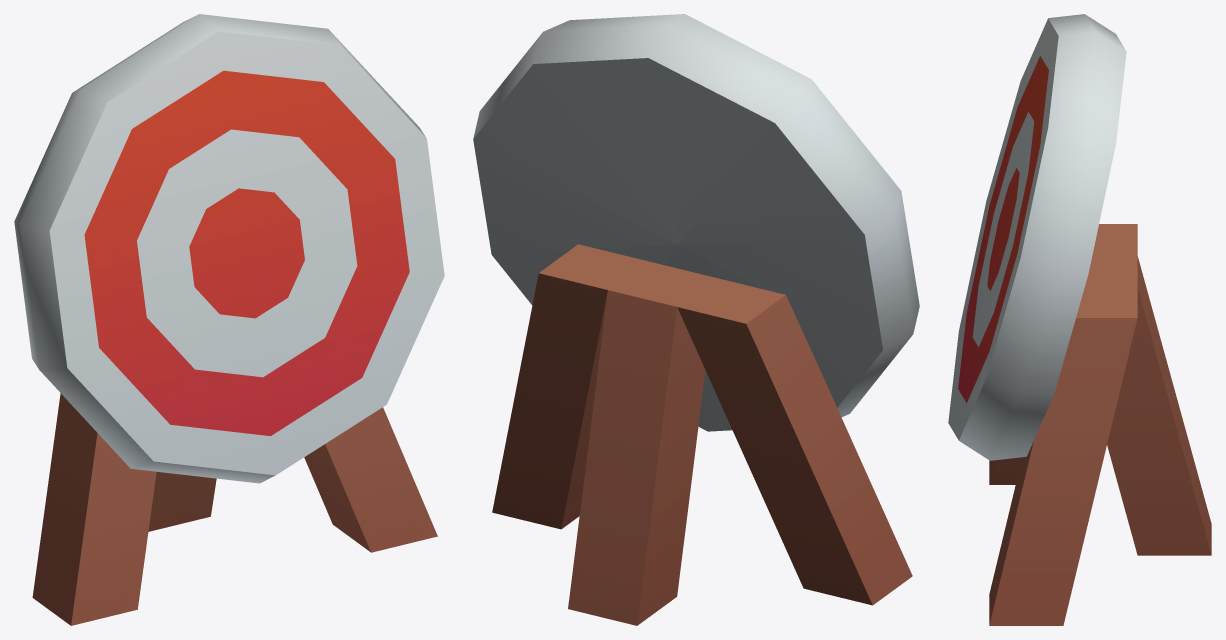
The model's file is kaykit-medieval-hexagon-pack-target.glb.
3 renders of one model, left to right at view 1: azimuth 30°, elevation 25°; view 2: azimuth 150°, elevation 25°; view 3: azimuth 270°, elevation 25°, orthographic. The views are drawn at different scales.
Parts seen in each view (by area): view 1: target; view 2: target; view 3: target.
Boxes of the visible parts, x1,y1,x2,y2 form: target: (14,14,444,625); target: (473,14,919,625); target: (948,14,1211,625).
Size of the model in its own units: 0.2393 by 0.3018 by 0.1421.
Materials: 1 (1 with a texture image).
